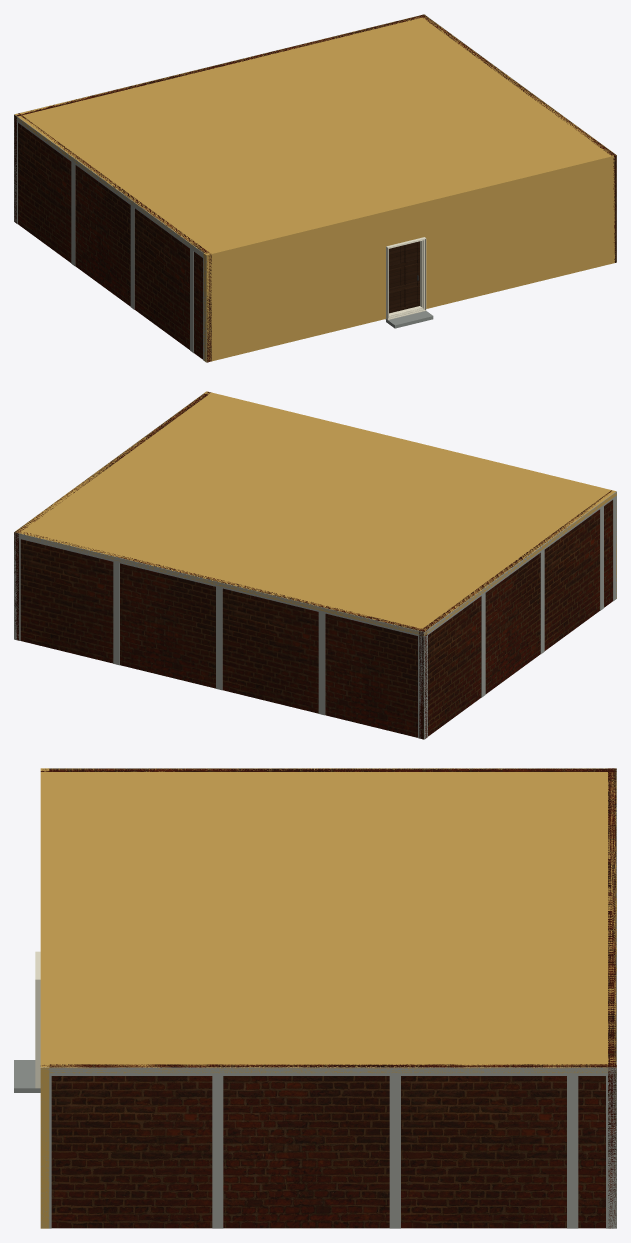
The model's file is building.glb.
The picture shows the model from 3 angles, top to bottom: view 1: azimuth 30°, elevation 25°; view 2: azimuth 150°, elevation 25°; view 3: azimuth 270°, elevation 25°; orthographic projection. The views are drawn at different scales.
Parts seen in each view (by area): view 1: roof/house:0/roof_slab#0001, house:0/edge0/z0/house:0/edge0/z0/wall_0_0, house:0/edge3/z0/house:0/edge3/z0/wall_0_0, house:0/edge2/z0/house:0/edge2/z0/wall_0_0, house:0/edge1/z0/house:0/edge1/z0/wall_0_0, house:0/edge3/z0/house:0/edge3/z0/beam_0_0, house:0/edge3/z0/house:0/edge3/z0/column_3_0, house:0/edge3/z0/house:0/edge3/z0/column_2_0; view 2: roof/house:0/roof_slab#0001, house:0/edge2/z0/house:0/edge2/z0/wall_0_0, house:0/edge3/z0/house:0/edge3/z0/wall_0_0, house:0/edge2/z0/house:0/edge2/z0/beam_0_0, house:0/edge0/z0/house:0/edge0/z0/wall_0_0, house:0/edge1/z0/house:0/edge1/z0/wall_0_0, house:0/edge3/z0/house:0/edge3/z0/beam_0_0, house:0/edge2/z0/house:0/edge2/z0/column_4_0, house:0/edge2/z0/house:0/edge2/z0/column_3_0, house:0/edge2/z0/house:0/edge2/z0/column_2_0, house:0/edge2/z0/house:0/edge2/z0/column_1_0, house:0/edge2/z0/house:0/edge2/z0/column_0_0 (+2 smaller); view 3: roof/house:0/roof_slab#0001, house:0/edge1/z0/house:0/edge1/z0/wall_0_0, house:0/edge1/z0/house:0/edge1/z0/beam_0_0, house:0/edge0/z0/house:0/edge0/z0/wall_0_0, house:0/edge2/z0/house:0/edge2/z0/wall_0_0, house:0/edge3/z0/house:0/edge3/z0/wall_0_0, house:0/edge1/z0/house:0/edge1/z0/column_2_0, house:0/edge1/z0/house:0/edge1/z0/column_3_0, house:0/edge1/z0/house:0/edge1/z0/column_4_0, house:0/edge1/z0/house:0/edge1/z0/column_1_0, house:0/edge0/z0/opening_u7.00_v0.00/door_moulding#0028, entrance/umbral_y_descanso/entrance_steps#0001.
Boxes of the visible parts, box(x1,y1,x2,y2) form: roof/house:0/roof_slab#0001: box(14, 15, 614, 256); house:0/edge0/z0/house:0/edge0/z0/wall_0_0: box(203, 155, 616, 362); house:0/edge3/z0/house:0/edge3/z0/wall_0_0: box(18, 113, 211, 362); house:0/edge2/z0/house:0/edge2/z0/wall_0_0: box(14, 14, 425, 223); house:0/edge1/z0/house:0/edge1/z0/wall_0_0: box(420, 14, 616, 262); house:0/edge3/z0/house:0/edge3/z0/beam_0_0: box(14, 114, 206, 259); house:0/edge3/z0/house:0/edge3/z0/column_3_0: box(130, 205, 134, 309); house:0/edge3/z0/house:0/edge3/z0/column_2_0: box(71, 162, 75, 266); roof/house:0/roof_slab#0001: box(14, 392, 616, 635); house:0/edge2/z0/house:0/edge2/z0/wall_0_0: box(20, 532, 427, 738); house:0/edge3/z0/house:0/edge3/z0/wall_0_0: box(419, 490, 612, 739); house:0/edge2/z0/house:0/edge2/z0/beam_0_0: box(14, 532, 424, 636); house:0/edge0/z0/house:0/edge0/z0/wall_0_0: box(204, 391, 616, 598); house:0/edge1/z0/house:0/edge1/z0/wall_0_0: box(14, 392, 210, 640); house:0/edge3/z0/house:0/edge3/z0/beam_0_0: box(424, 491, 616, 637); house:0/edge2/z0/house:0/edge2/z0/column_4_0: box(318, 612, 325, 715); house:0/edge2/z0/house:0/edge2/z0/column_3_0: box(216, 587, 222, 690); house:0/edge2/z0/house:0/edge2/z0/column_2_0: box(113, 562, 119, 665); house:0/edge2/z0/house:0/edge2/z0/column_1_0: box(418, 636, 424, 739); house:0/edge2/z0/house:0/edge2/z0/column_0_0: box(14, 538, 20, 640); roof/house:0/roof_slab#0001: box(40, 768, 616, 1073); house:0/edge1/z0/house:0/edge1/z0/wall_0_0: box(42, 1064, 616, 1228); house:0/edge1/z0/house:0/edge1/z0/beam_0_0: box(41, 1067, 616, 1075); house:0/edge0/z0/house:0/edge0/z0/wall_0_0: box(40, 768, 49, 1228); house:0/edge2/z0/house:0/edge2/z0/wall_0_0: box(608, 768, 616, 1228); house:0/edge3/z0/house:0/edge3/z0/wall_0_0: box(40, 768, 616, 771); house:0/edge1/z0/house:0/edge1/z0/column_2_0: box(212, 1076, 223, 1228); house:0/edge1/z0/house:0/edge1/z0/column_3_0: box(389, 1076, 400, 1228); house:0/edge1/z0/house:0/edge1/z0/column_4_0: box(567, 1076, 578, 1228); house:0/edge1/z0/house:0/edge1/z0/column_1_0: box(606, 1076, 616, 1228); house:0/edge0/z0/opening_u7.00_v0.00/door_moulding#0028: box(35, 951, 40, 1088); entrance/umbral_y_descanso/entrance_steps#0001: box(14, 1060, 40, 1092).
Bounding box in the file's own units: 16 × 4.12 × 13.6.
7 materials, 2 textured.
